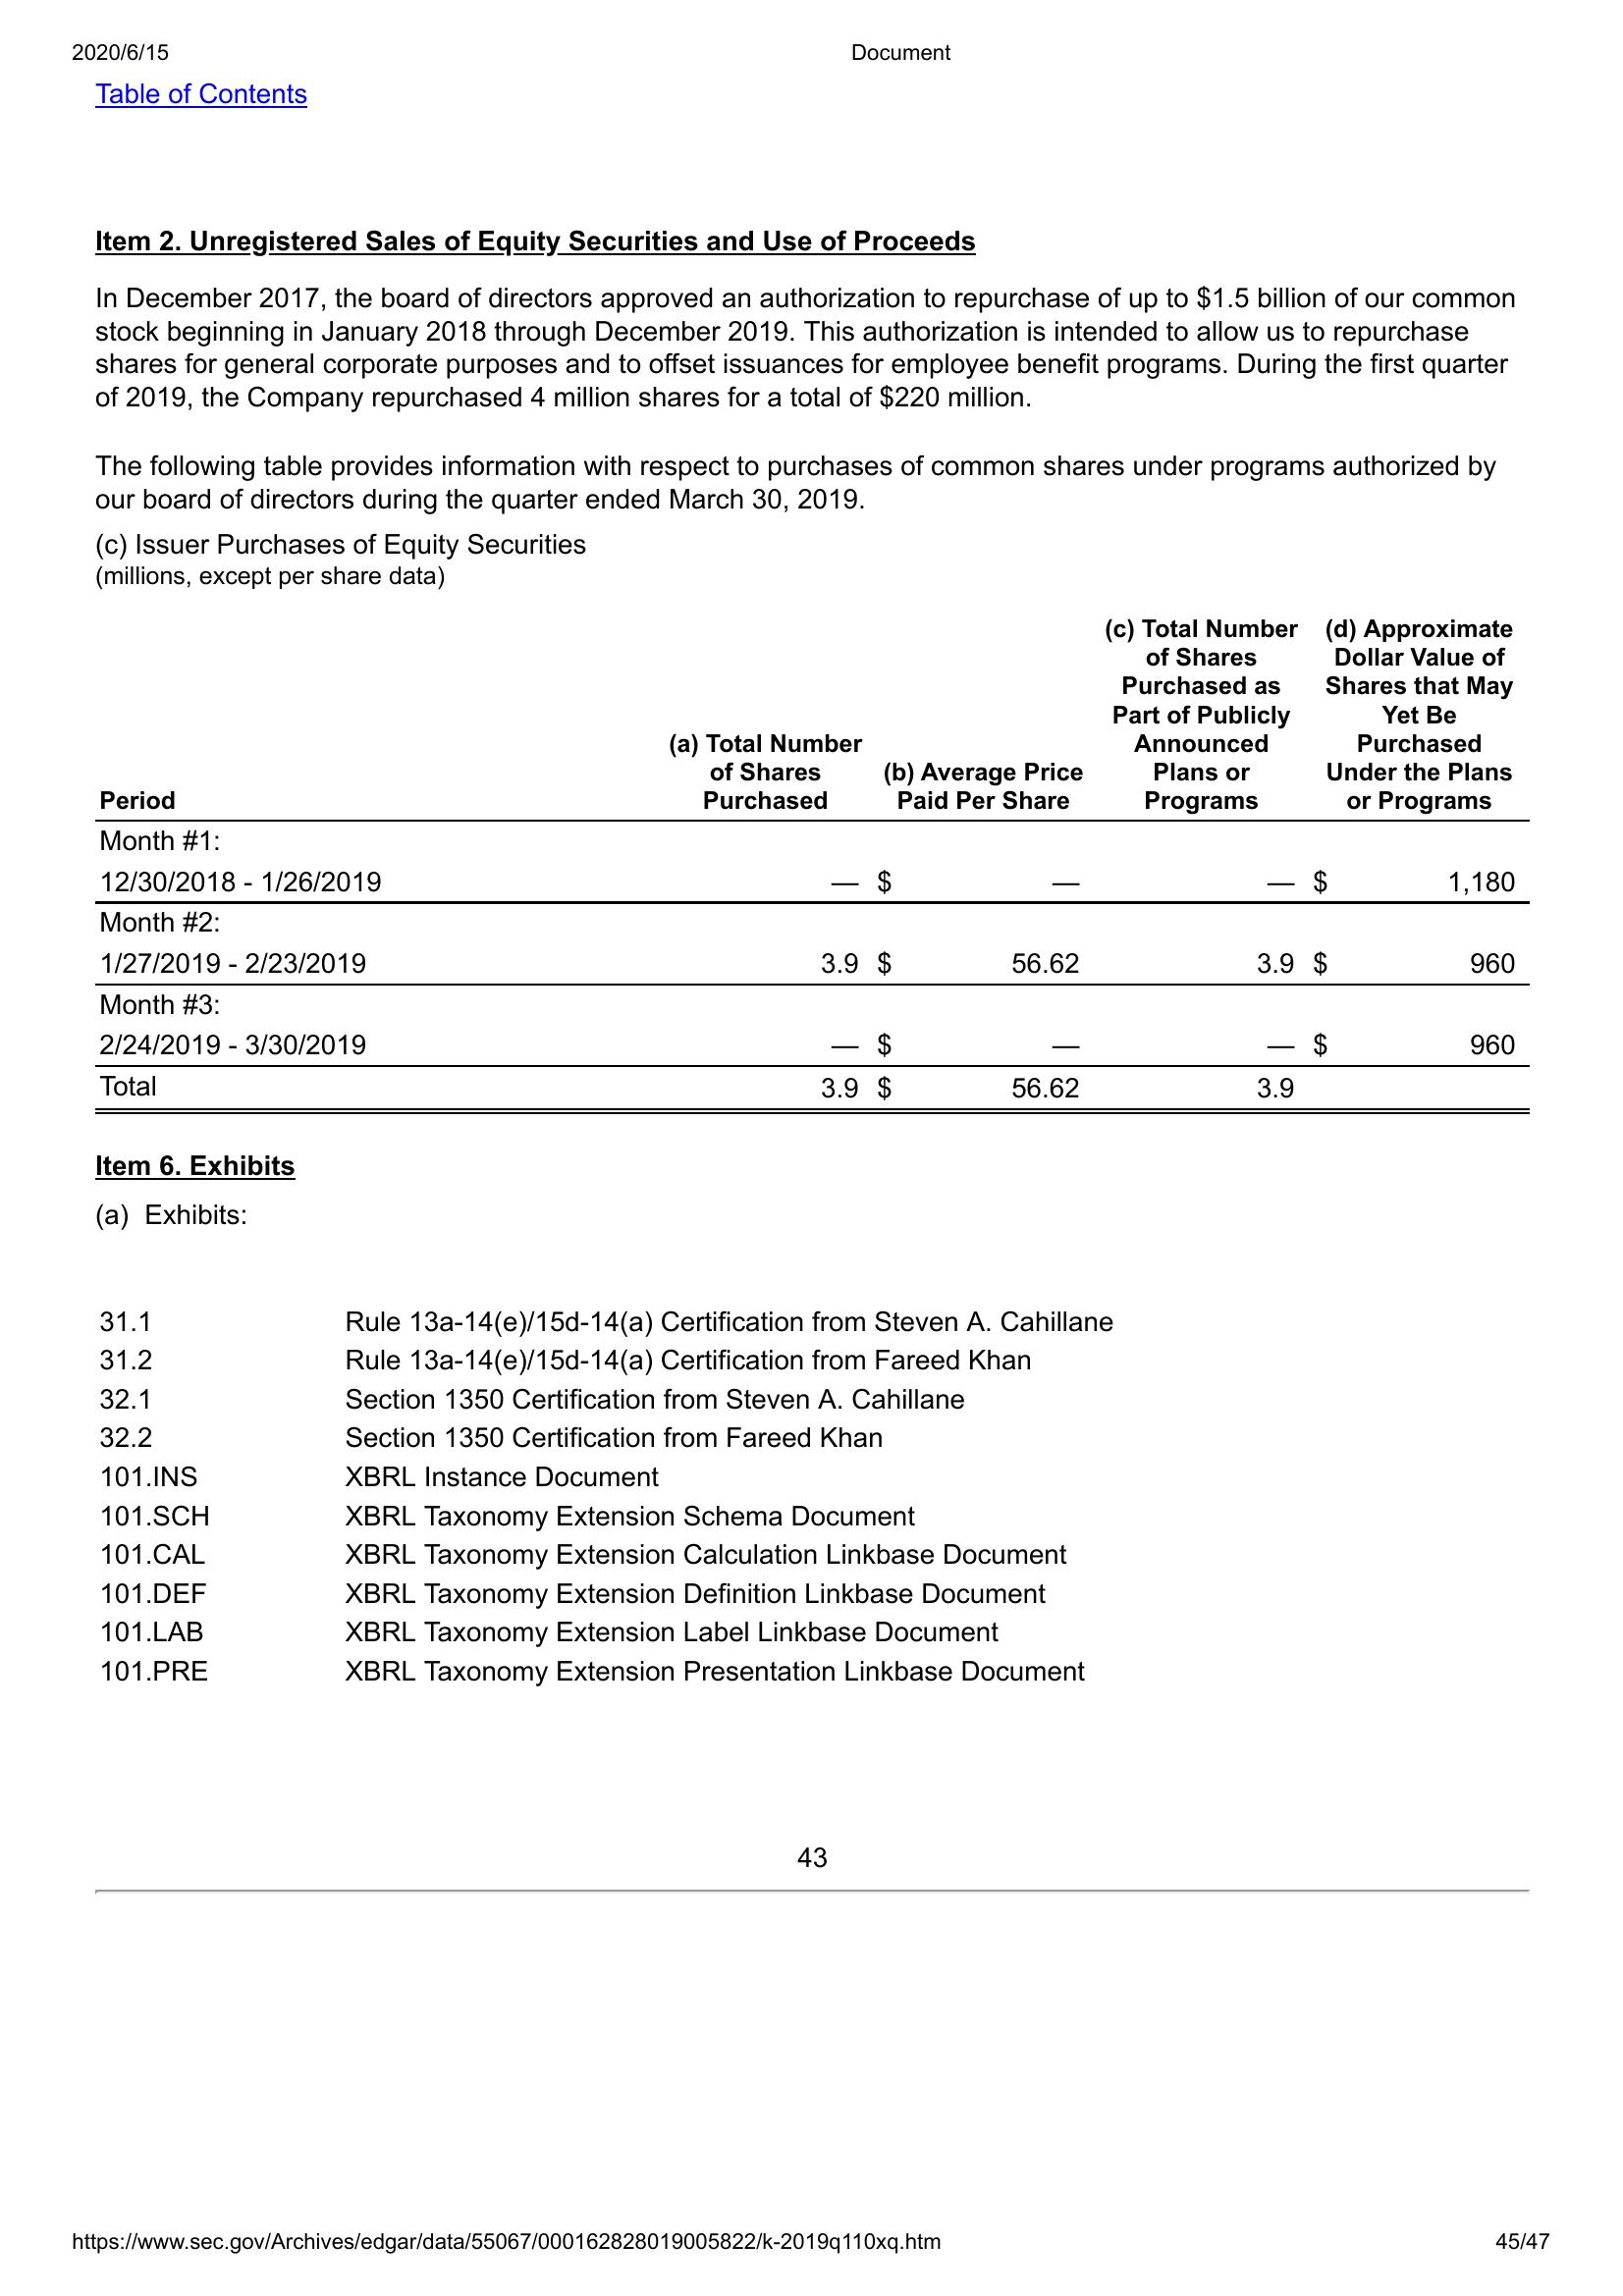table: (88, 607, 1535, 1127)
